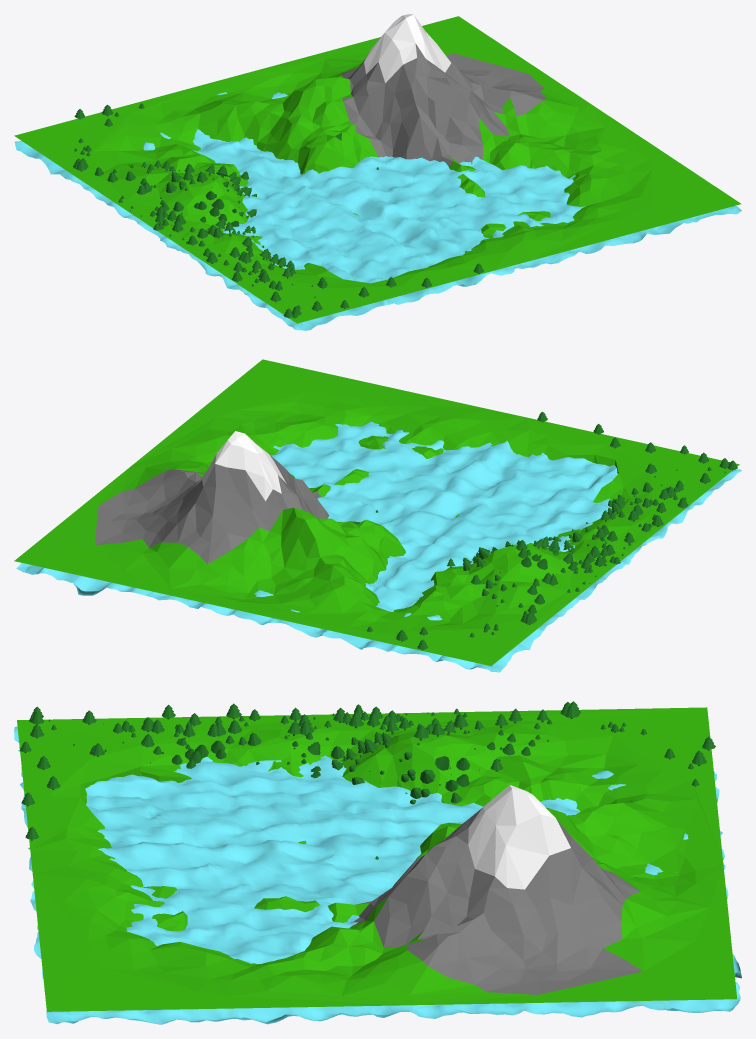
File: basiclscape.fbx
3 renders of one model, top to bottom at view 1: azimuth 30°, elevation 25°; view 2: azimuth 150°, elevation 25°; view 3: azimuth 270°, elevation 25°, orthographic. The views are drawn at different scales.
Parts seen in each view (by area): view 1: Landscape_plane; view 2: Landscape_plane; view 3: Landscape_plane.
Boxes of the visible parts, x1,y1,x2,y2 form: Landscape_plane: [14, 14, 741, 330]; Landscape_plane: [14, 359, 741, 672]; Landscape_plane: [14, 701, 741, 1024].
Size of the model in its own units: 161231 by 48904 by 161331.
